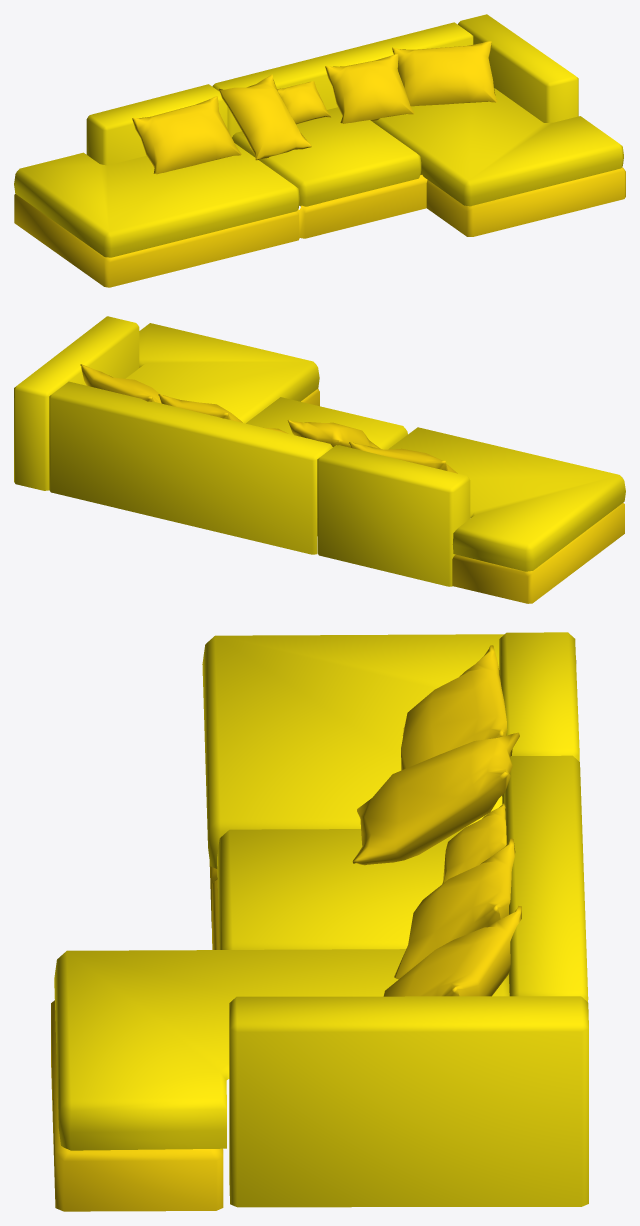
Rendered from Sofa5.fbx.
The picture shows the model from 3 angles, top to bottom: view 1: azimuth 30°, elevation 25°; view 2: azimuth 150°, elevation 25°; view 3: azimuth 270°, elevation 25°; orthographic projection. The views are drawn at different scales.
Visible parts, largest first — view 1: Sofa5; view 2: Sofa5; view 3: Sofa5.
Part boxes in pixels (box(x1,y1,x2,y2)): Sofa5: box(14, 14, 625, 287); Sofa5: box(14, 316, 625, 603); Sofa5: box(51, 632, 588, 1211).
Size of the model in its own units: 110 by 22.14 by 52.63.
